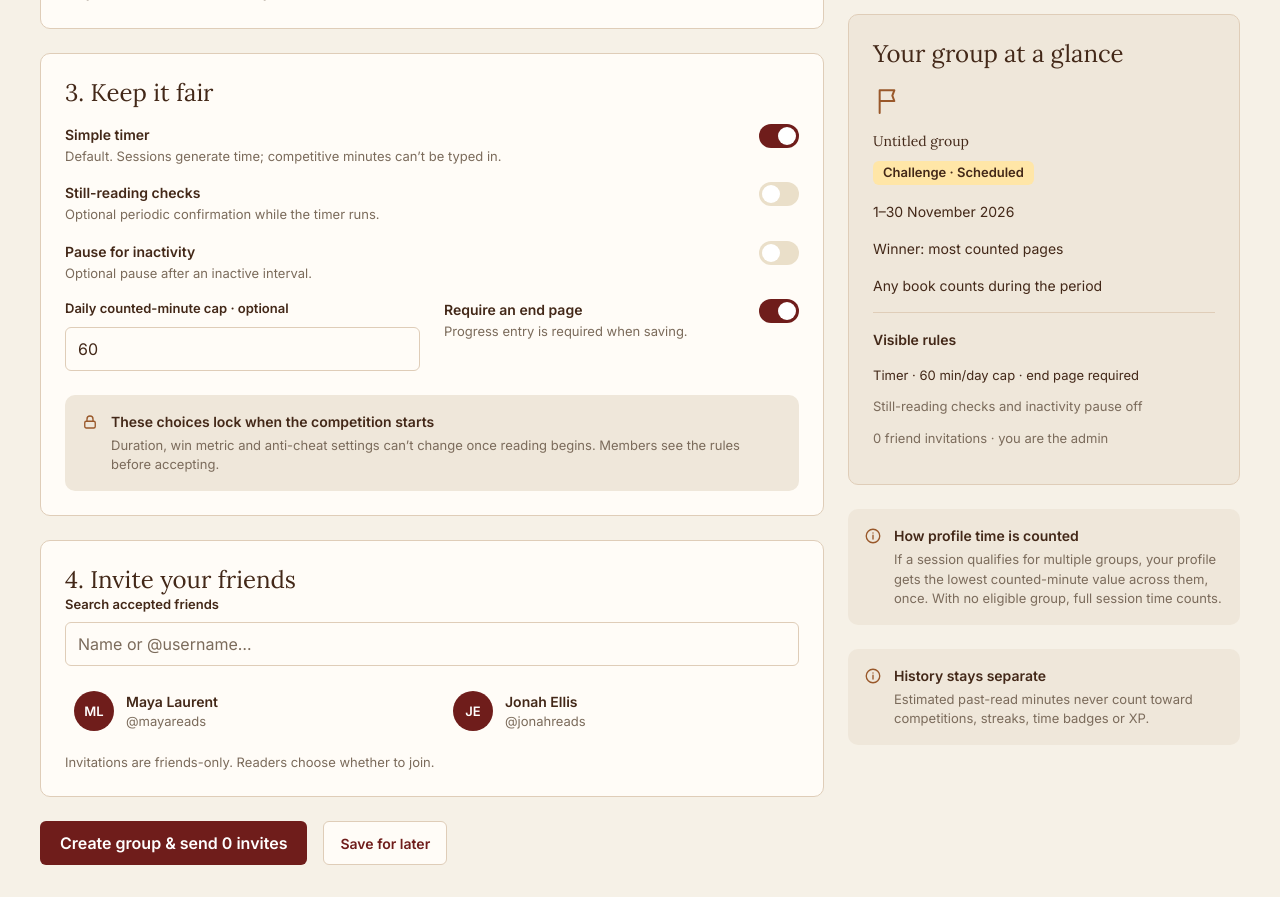
it: CreateGroupView › counts the invited friends in the button
(page scrolled)
Click the button with class "friend" showing "ML Maya Laurent @mayareads".
click(94, 711)  # box [65, 682, 420, 740]
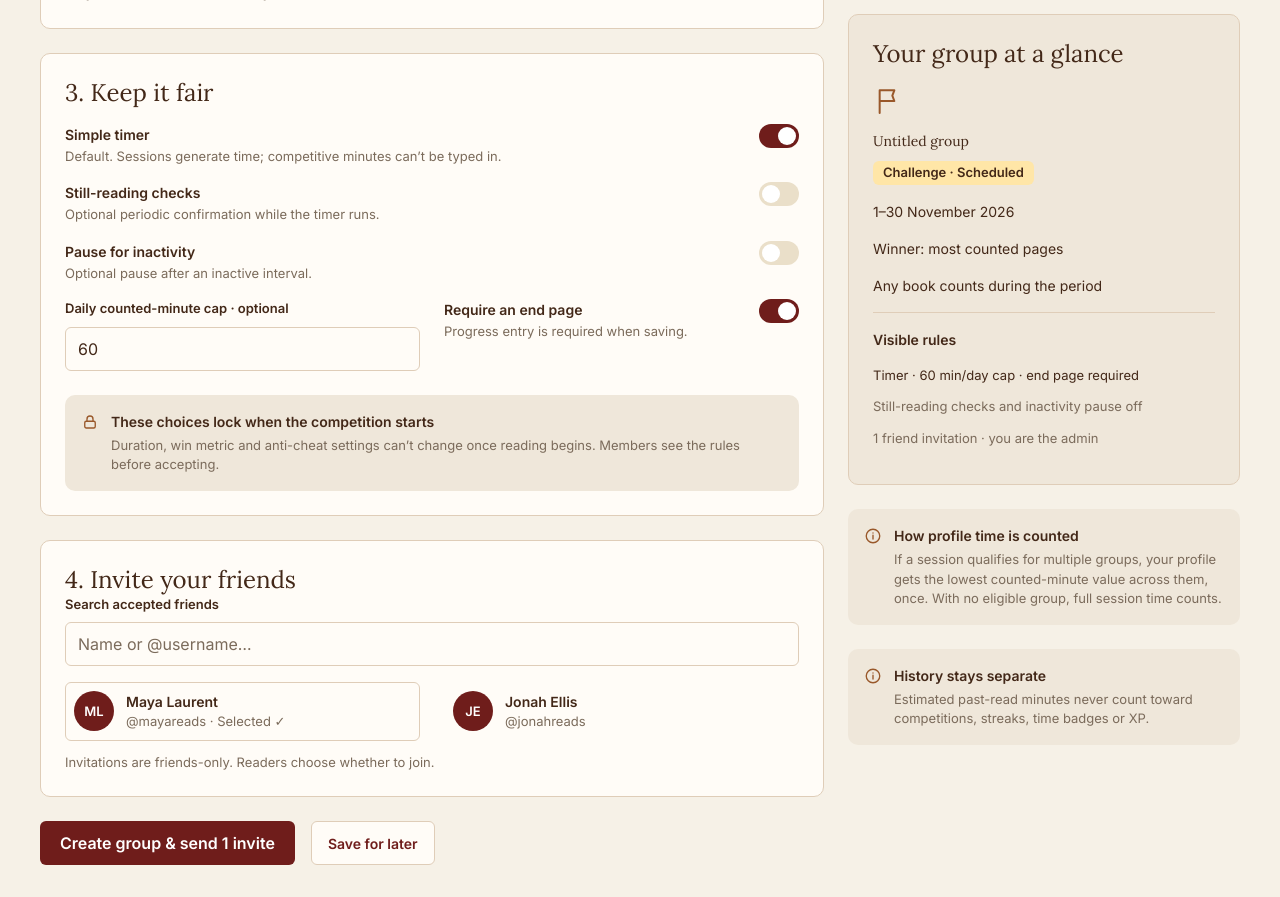
Expected: the submit button reads "Create group & send 1 invite", [40, 821, 295, 865]
Click the button with class "friend" showing "JE Jonah Ellis @jonahreads".
click(473, 711)  # box [444, 682, 799, 740]
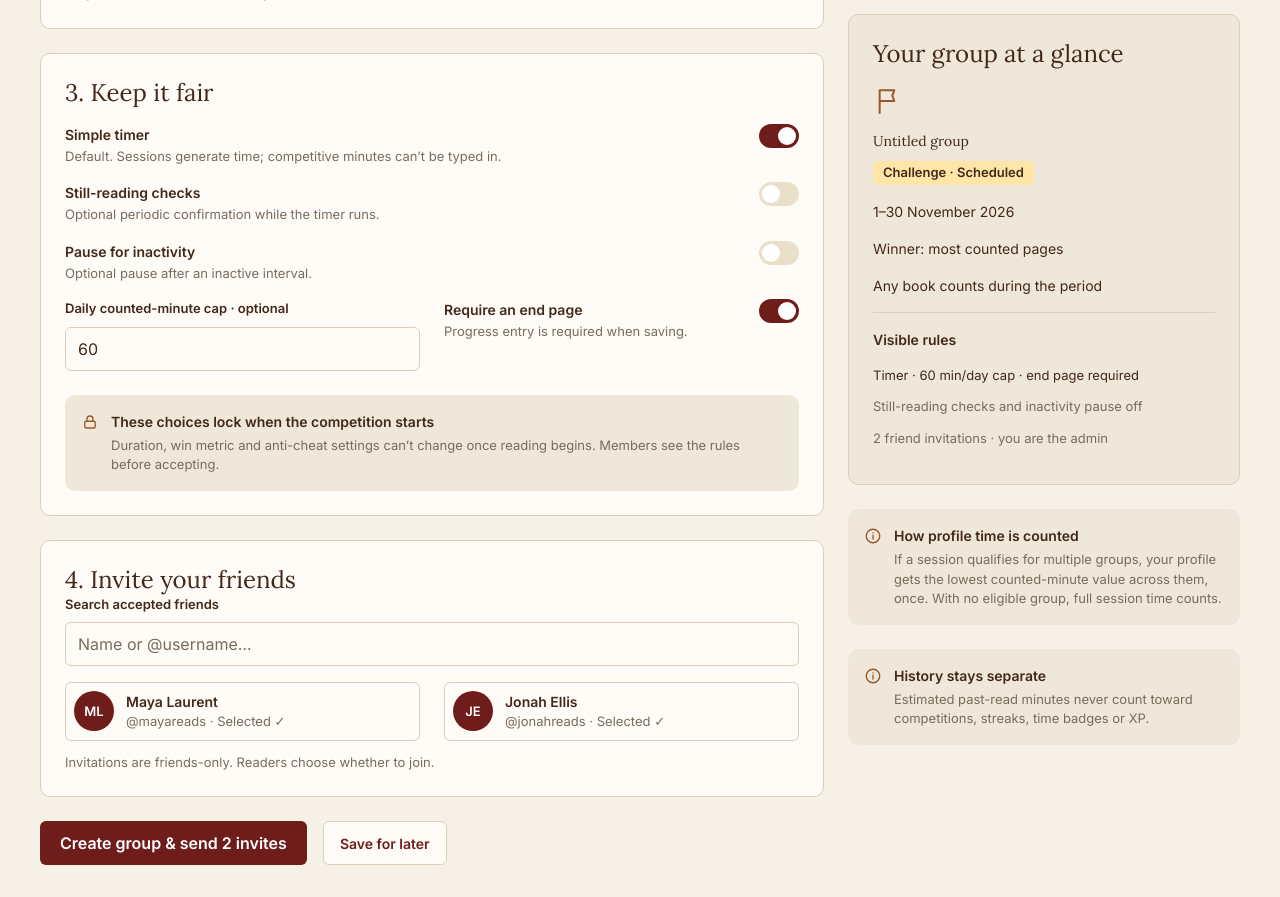
Expected: the submit button reads "Create group & send 2 invites", [40, 821, 307, 865]
Type "jonah" into the search field with id "friend-search".
click(432, 644); type("jonah")  # box [65, 622, 799, 666]
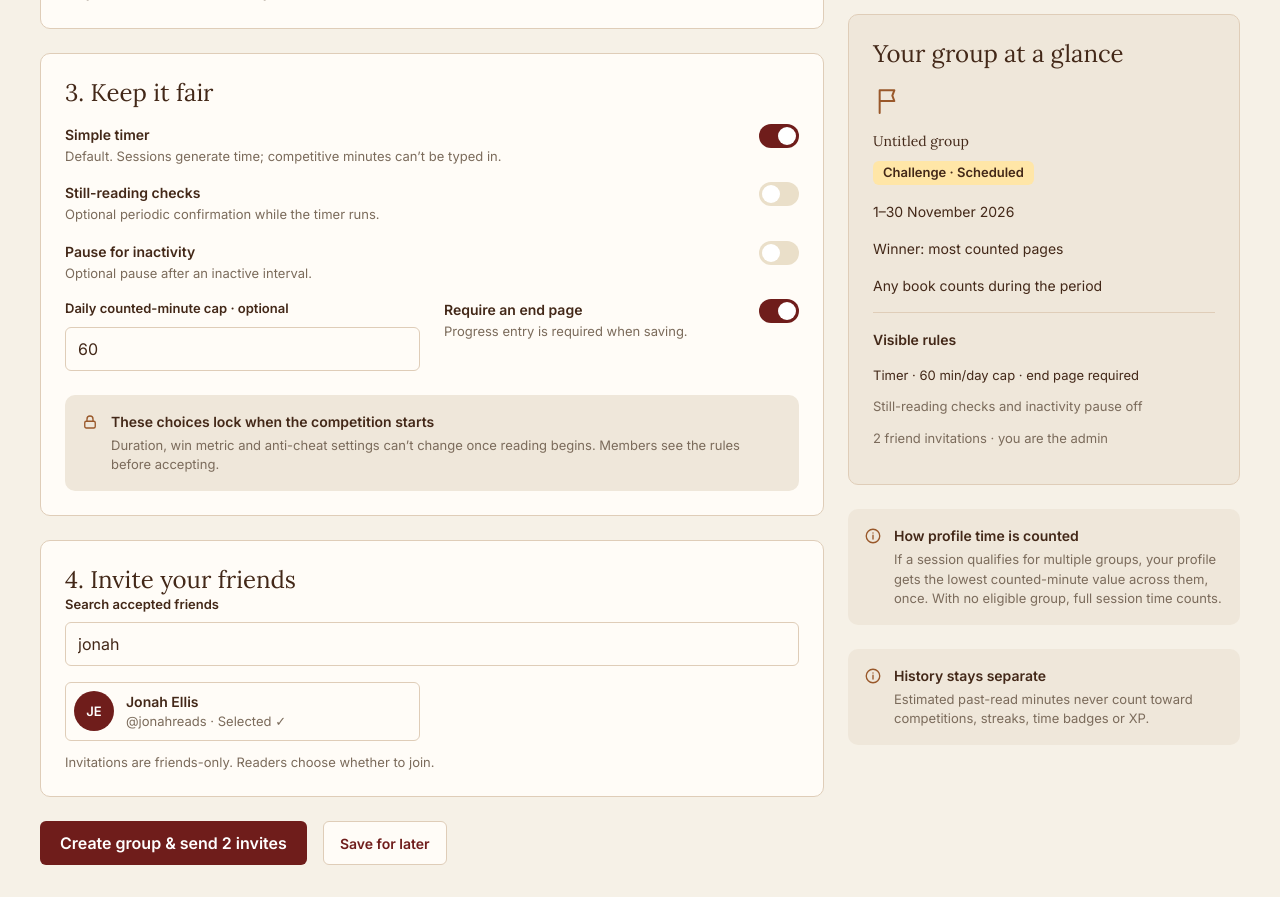
Expected: the number of buttons with class "friend" is 1, [65, 682, 420, 740]
